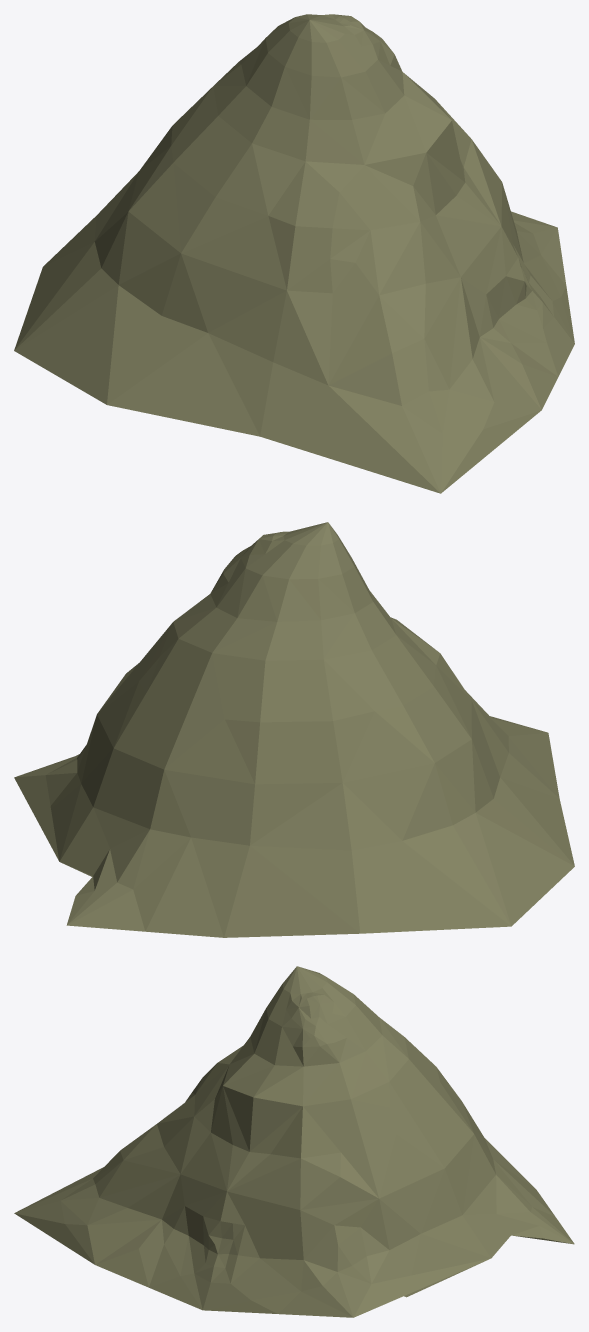
Rendered from rock09.fbx.
3 views of the same model, one above another, from view 1: azimuth 30°, elevation 25°; view 2: azimuth 150°, elevation 25°; view 3: azimuth 270°, elevation 25° (orthographic). The views are drawn at different scales.
Parts seen in each view (by area): view 1: rock09; view 2: rock09; view 3: rock09.
Boxes of the visible parts, x1=… form: rock09: x1=14, y1=14, x2=574, y2=493; rock09: x1=14, y1=522, x2=574, y2=937; rock09: x1=14, y1=966, x2=574, y2=1317.
Size of the model in its own units: 1.68 by 1.02 by 1.96.
